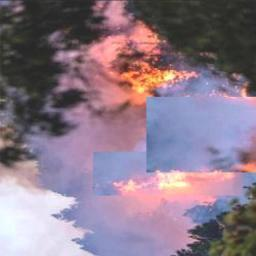Low smoke: (0, 20, 109, 253)
Small fire: (114, 48, 194, 96), (103, 167, 220, 198)
